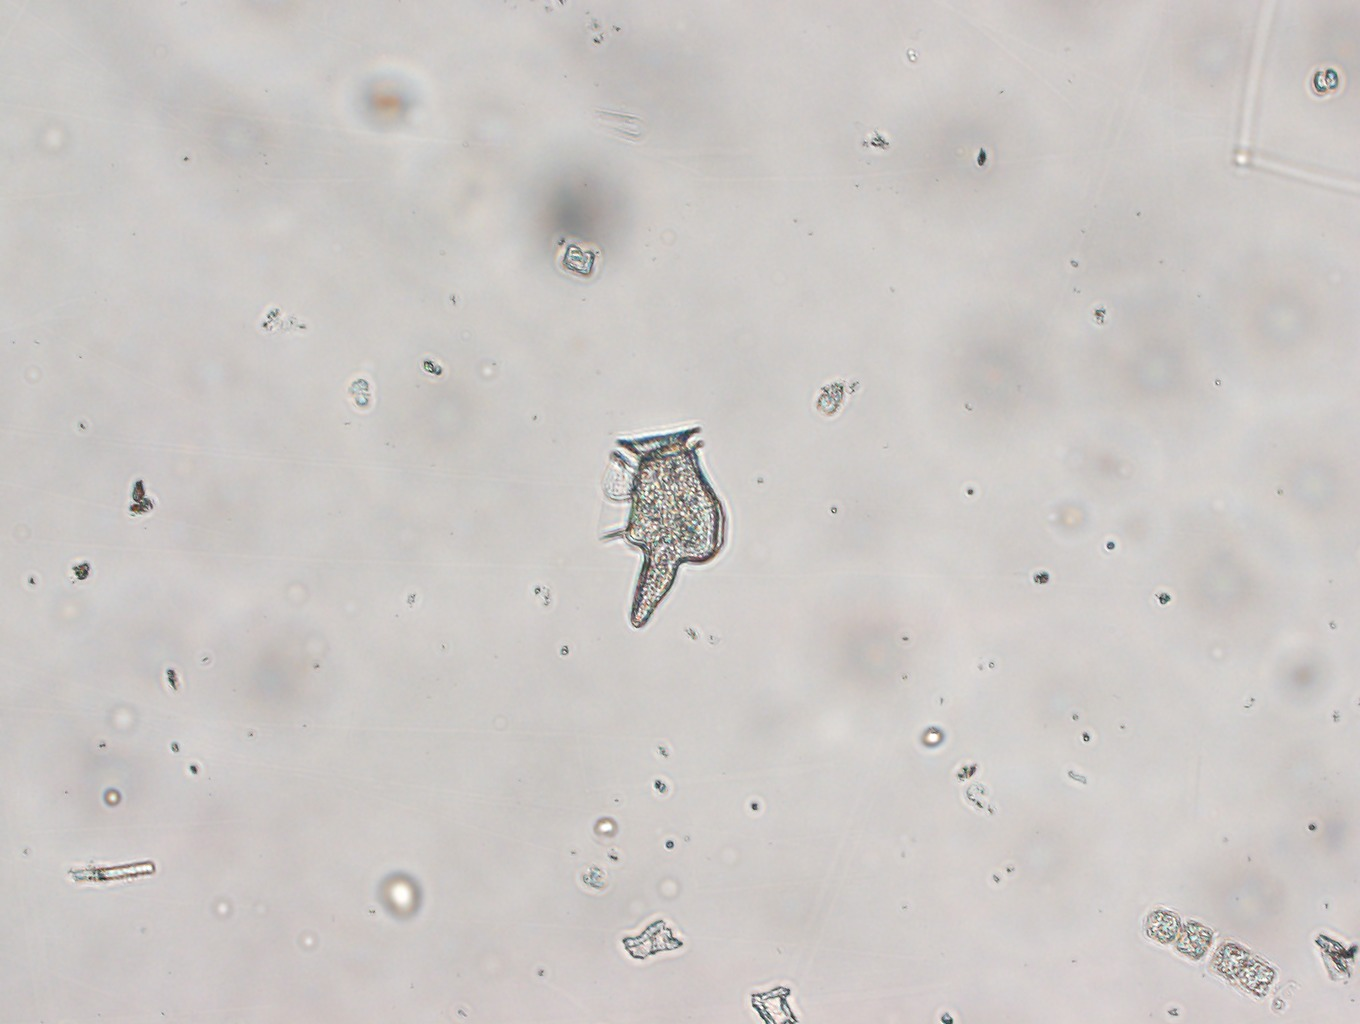dinophysis caudata: (591, 411, 736, 637), (1130, 895, 1279, 999)
